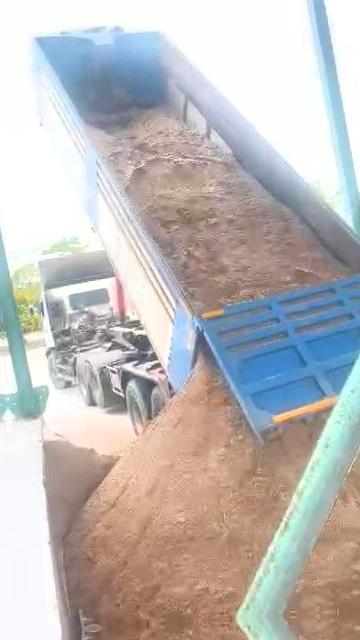sand: (66, 358, 324, 627), (91, 108, 349, 311), (290, 396, 360, 613), (45, 434, 116, 543)
